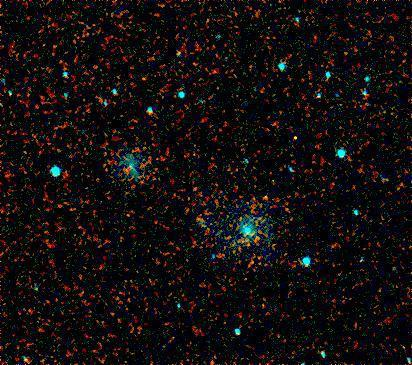star: (282, 120, 312, 150)
